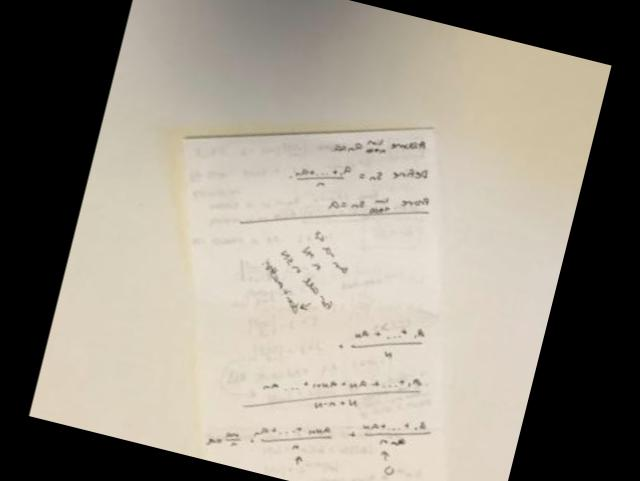cardboard paper: (185, 131, 446, 481)
